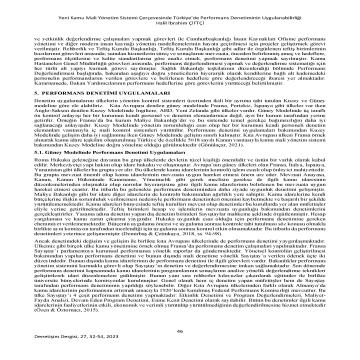header: (55, 14, 304, 26)
